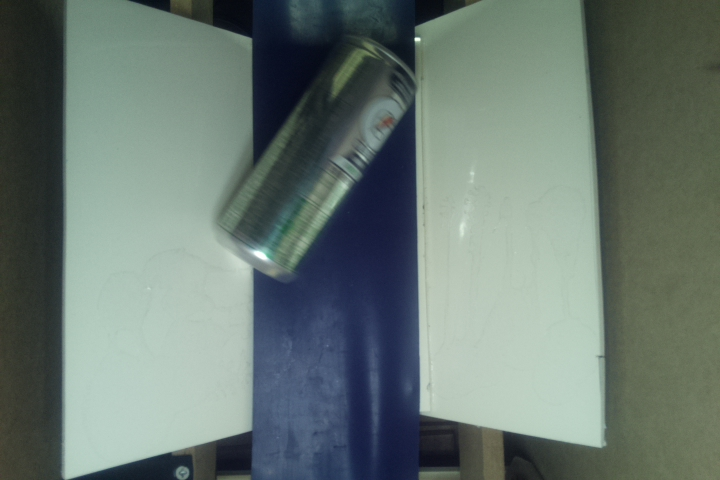can: (213, 36, 423, 287)
